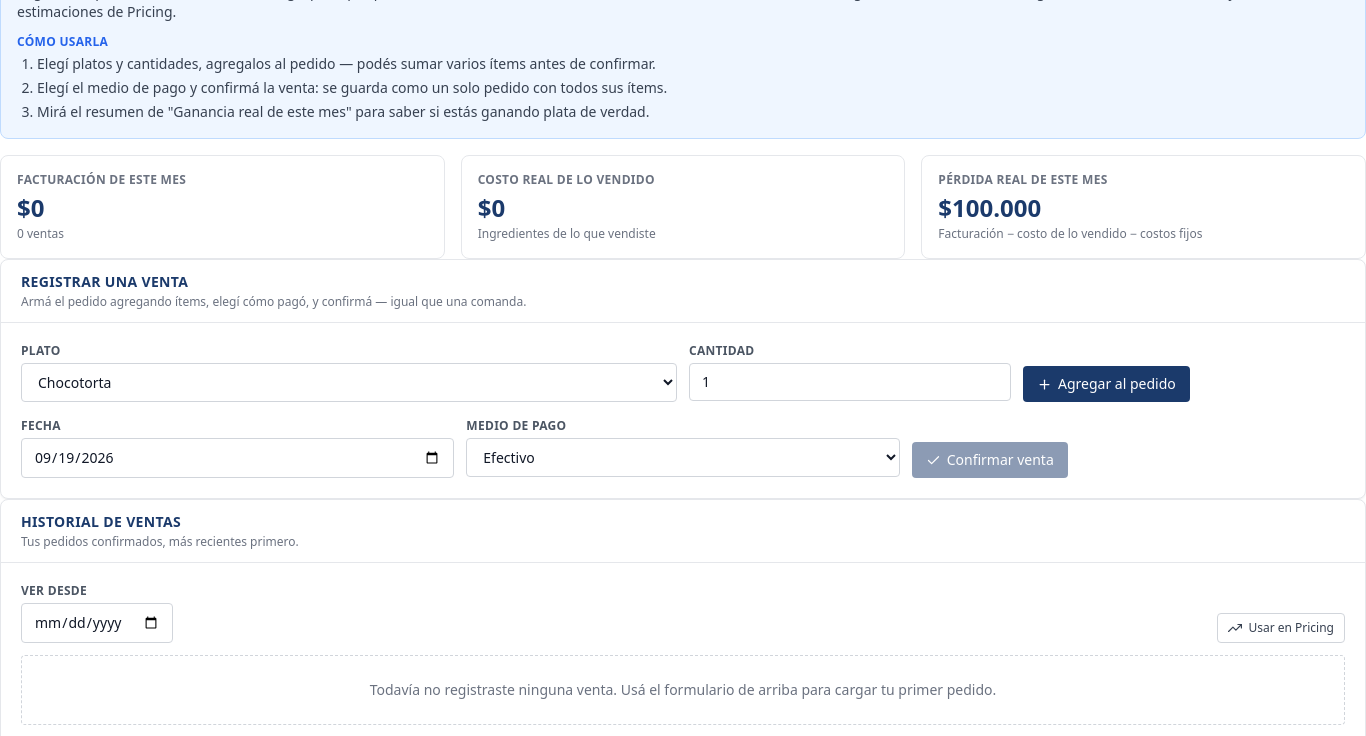
Test: SeccionVentas — carrito y confirmación › agregar el mismo plato dos veces suma la cantidad en vez de duplicar la línea
(page scrolled)
Select "Chocotorta" in the dropdown labelled "Plato" at [349, 382], box [21,363,677,402]
Select "Chocotorta" in the dropdown labelled "Plato" at [349, 382], box [21,363,677,402]
Click the button "Agregar al pedido" at [1106, 384], box [1023,366,1190,402]
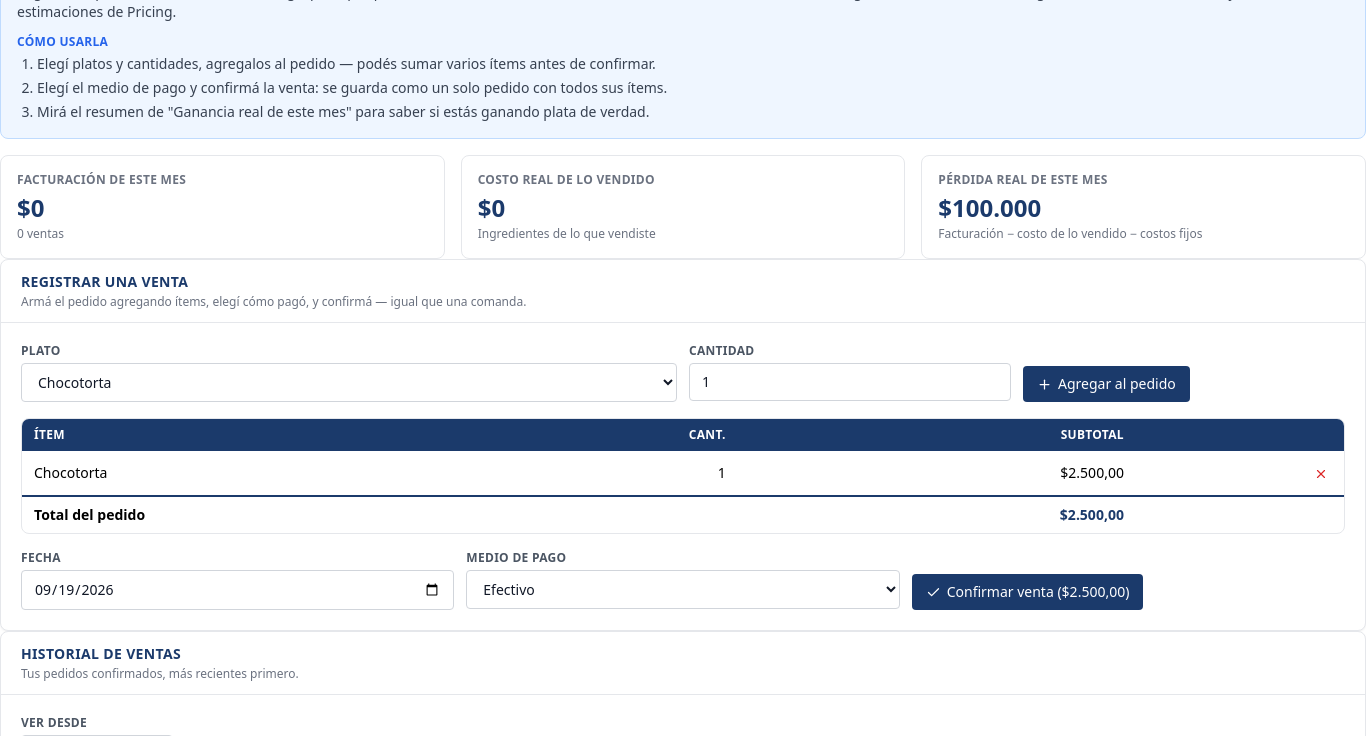
Click the button "Agregar al pedido" at [1106, 384], box [1023,366,1190,402]
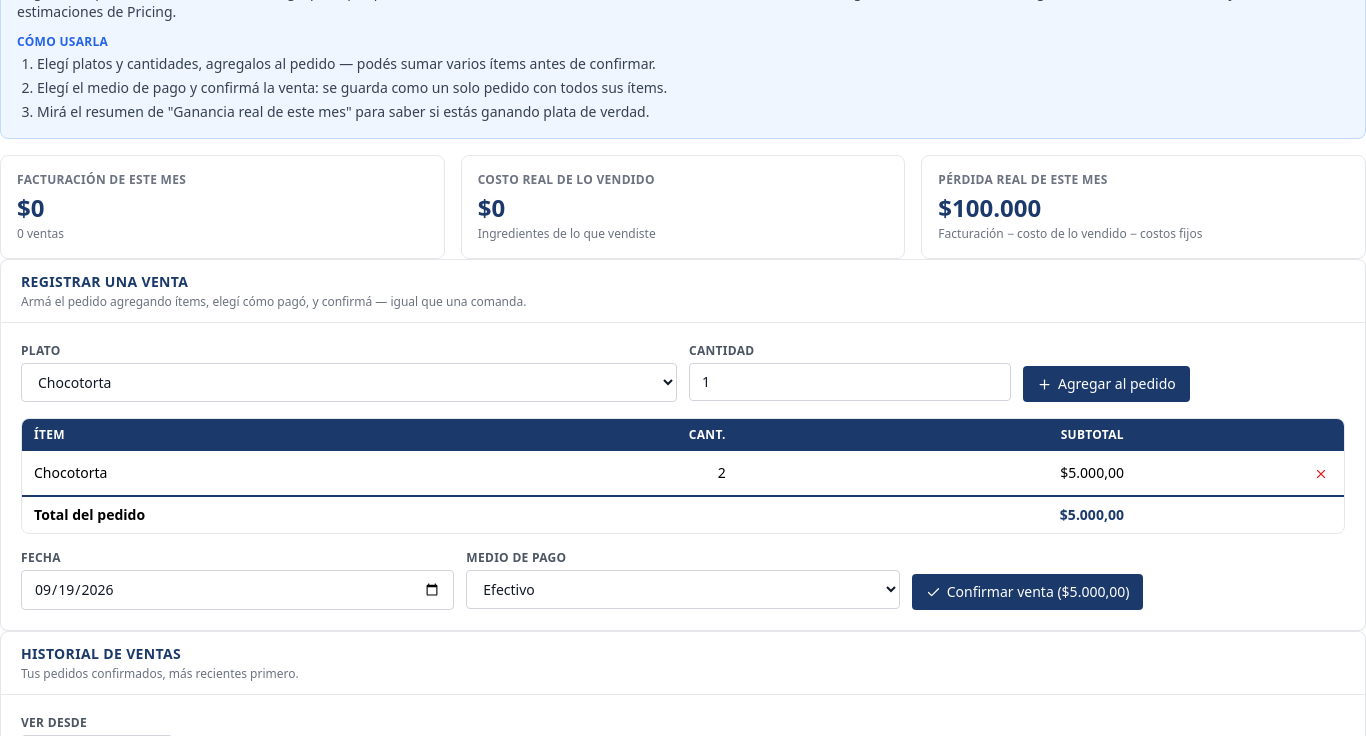
Now the table shows "$5.000,00", box [1060,463,1124,482]
